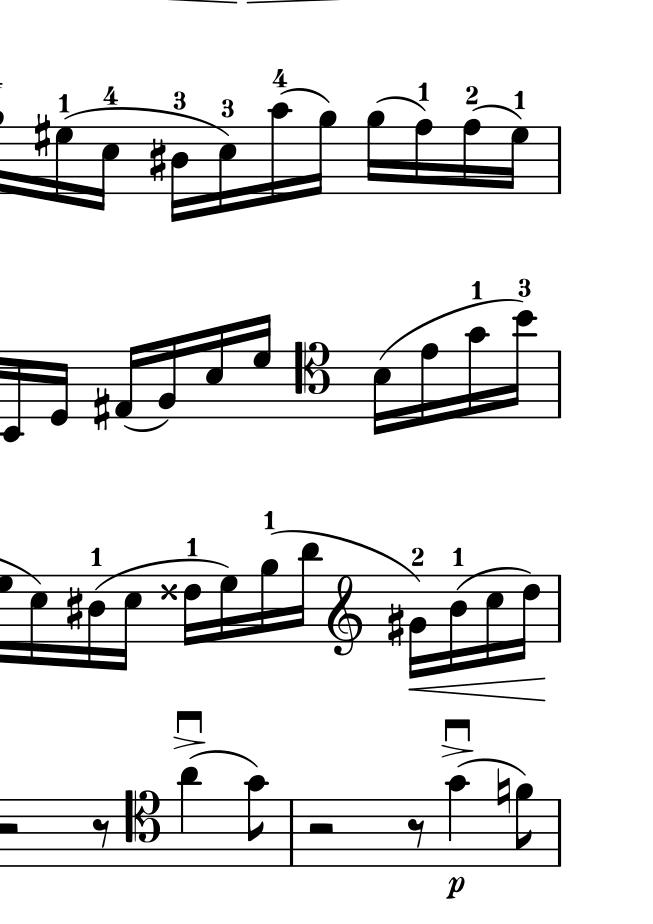1: (57, 91, 70, 115), (262, 509, 275, 531), (185, 535, 198, 556), (453, 546, 464, 569), (91, 546, 102, 569), (515, 89, 526, 111), (418, 80, 428, 102), (472, 278, 482, 300)
16_-2: (1, 350, 23, 444)
16_0: (47, 348, 71, 429)
16_1: (112, 344, 143, 421)
16_10: (268, 100, 293, 201), (465, 325, 488, 419)
16_11: (292, 540, 322, 645)
16_12: (504, 309, 534, 421)
16_2: (408, 574, 428, 677), (155, 336, 177, 419)
16_4: (448, 573, 468, 674), (86, 574, 106, 671), (170, 124, 188, 225)
16_5: (113, 575, 144, 673), (92, 128, 120, 213), (27, 571, 49, 669), (485, 572, 506, 666), (205, 321, 225, 418), (216, 126, 237, 217), (372, 349, 393, 439)
16_6: (513, 573, 542, 662), (182, 572, 202, 648)
16_7: (251, 309, 272, 422), (503, 125, 530, 194), (53, 123, 74, 210), (218, 572, 238, 646)
16_8: (418, 341, 439, 429), (413, 116, 434, 198), (461, 118, 482, 196)
16_9: (308, 107, 336, 200), (365, 106, 385, 200), (258, 554, 278, 648)
2: (455, 566, 532, 591), (464, 85, 479, 106), (412, 547, 426, 567)
3: (220, 97, 235, 119), (518, 277, 532, 298), (173, 89, 187, 110)
4: (272, 66, 287, 89), (103, 84, 119, 104)
4_10: (447, 773, 471, 869)
4_11: (177, 765, 201, 869)
8_10: (244, 775, 267, 869)
8_9: (514, 782, 534, 870)
Accent_above: (440, 744, 472, 758), (172, 737, 204, 749)
Crescendo_hairpin: (407, 677, 544, 702)
DSharp: (158, 581, 178, 601)
Down_bow: (175, 709, 204, 735), (443, 717, 472, 743)
Gclef: (327, 575, 363, 657)
Natural: (495, 765, 511, 816)
Rests2: (305, 820, 337, 837)
Rests8: (407, 816, 427, 850), (91, 816, 111, 849)
Sharp: (147, 136, 168, 186), (385, 602, 406, 648), (91, 385, 111, 433), (32, 113, 51, 160), (65, 586, 84, 632)
Single_barline: (551, 350, 567, 417), (552, 800, 567, 867), (552, 127, 567, 193), (552, 575, 566, 642)
Slur: (379, 299, 522, 359), (271, 529, 422, 583), (64, 106, 226, 139), (97, 558, 228, 590), (189, 749, 256, 768), (458, 758, 525, 777), (280, 87, 330, 105), (472, 104, 523, 121), (377, 96, 425, 112), (124, 419, 169, 432)
Tensor_Cclef: (293, 339, 331, 421), (124, 790, 160, 867)
p: (445, 875, 466, 903)
